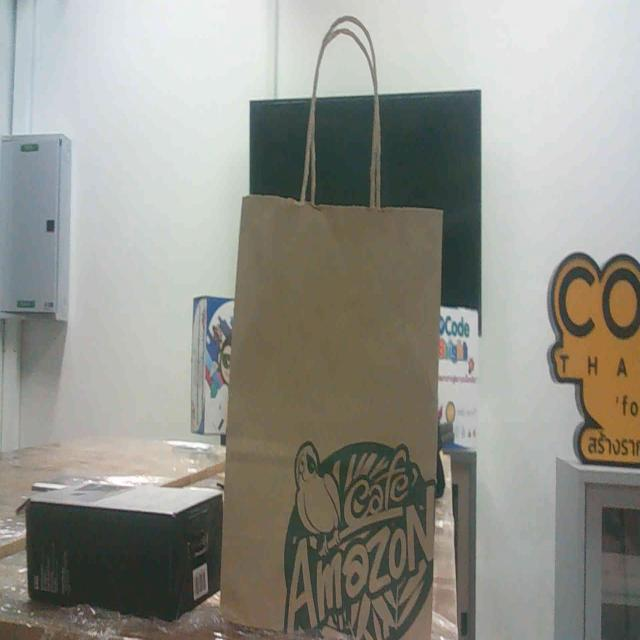bag: (247, 168, 450, 640)
